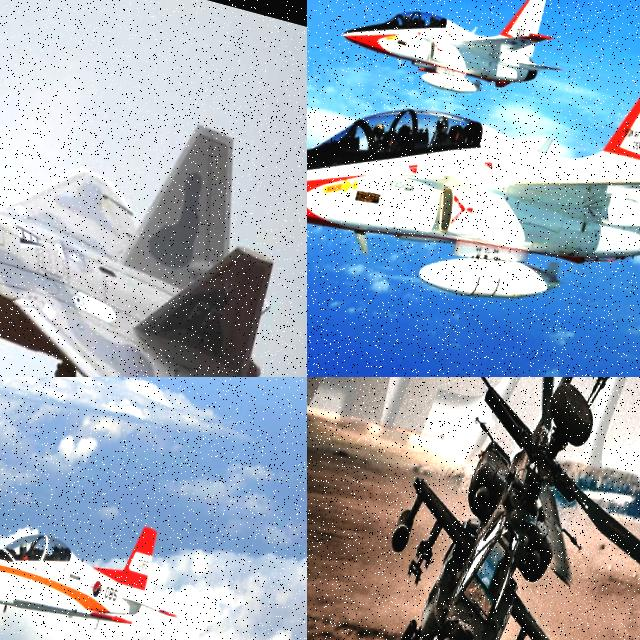Apache: (307, 377, 640, 640)
F22: (0, 16, 307, 377)
KT-1: (307, 0, 640, 363), (0, 480, 198, 640), (337, 0, 583, 117), (0, 570, 301, 640)
